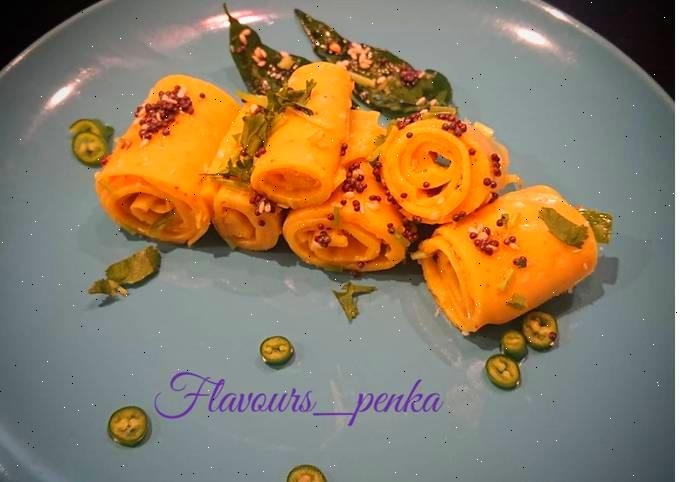khandvi: (89, 61, 620, 328)
